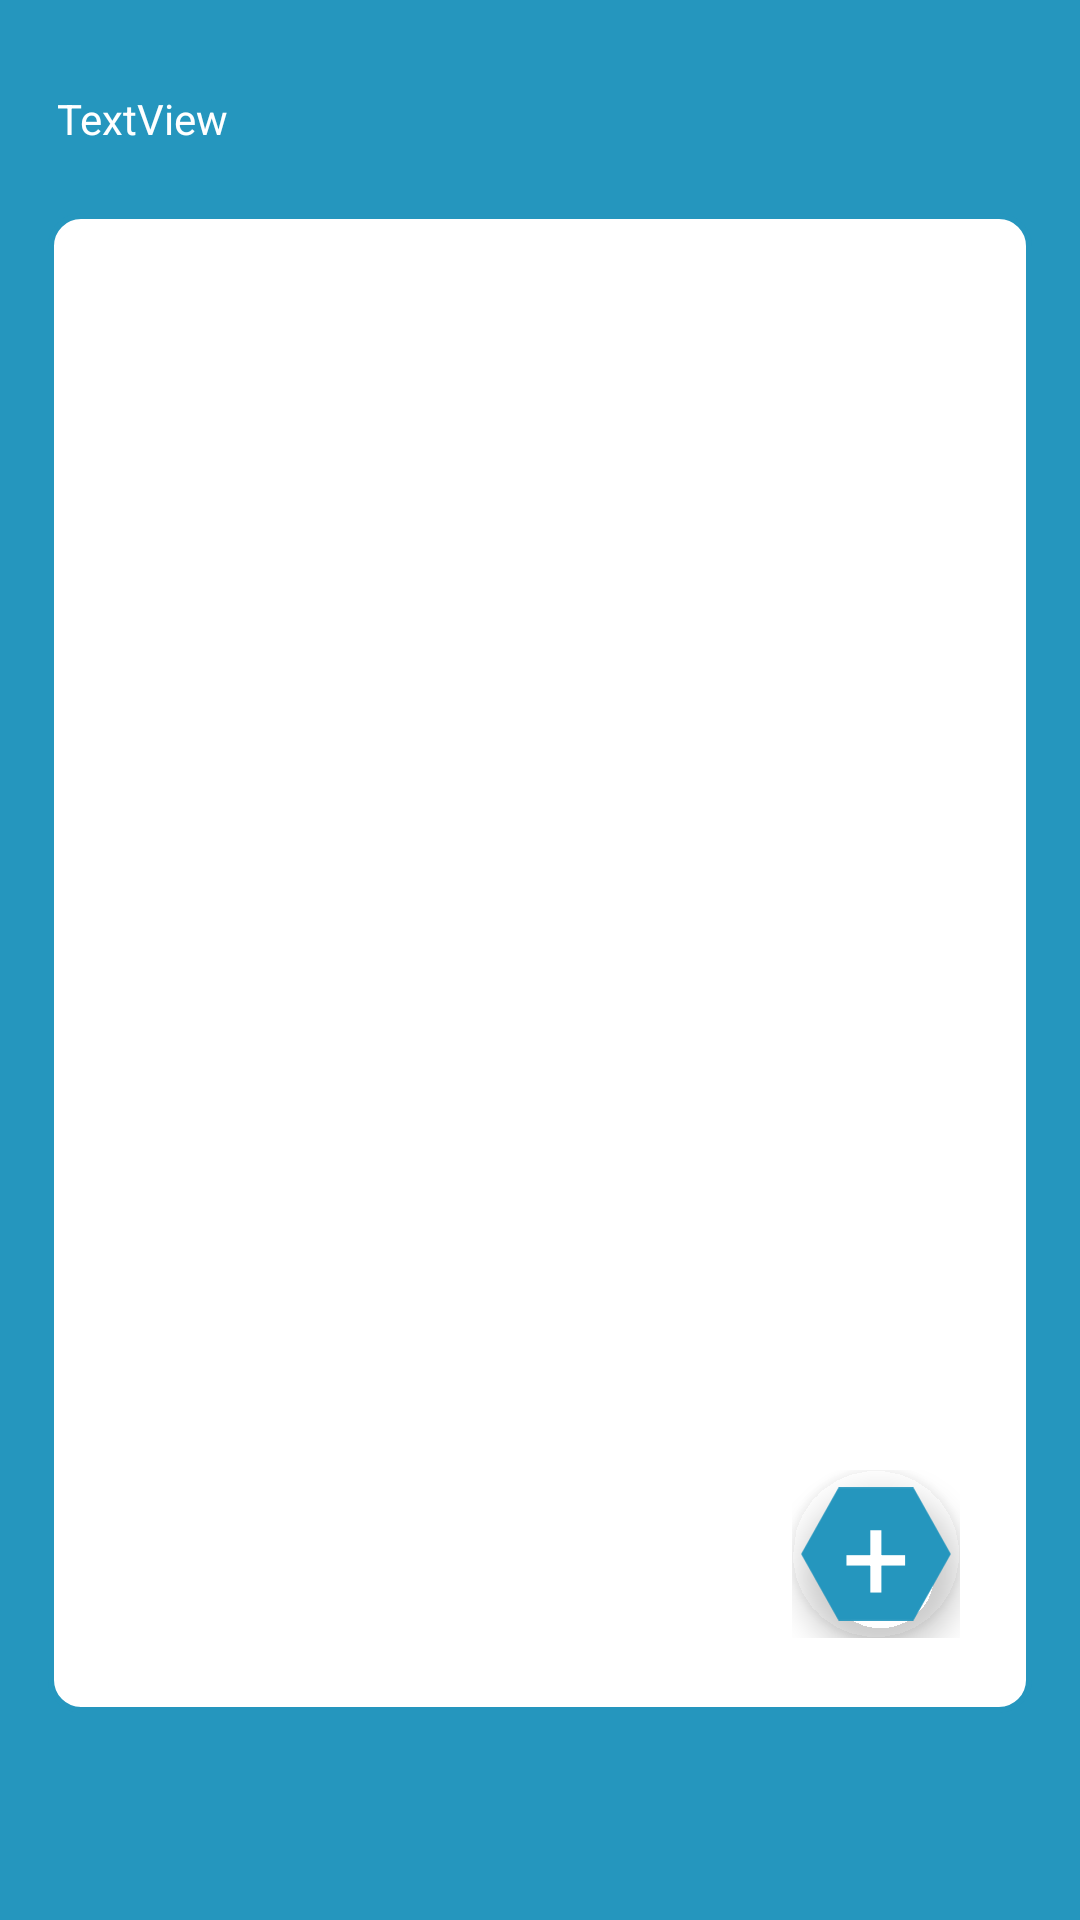

Icon click points for this 1080 × 1920 phone screenshot, format [x,y]:
hexagon float: [877,1562]
